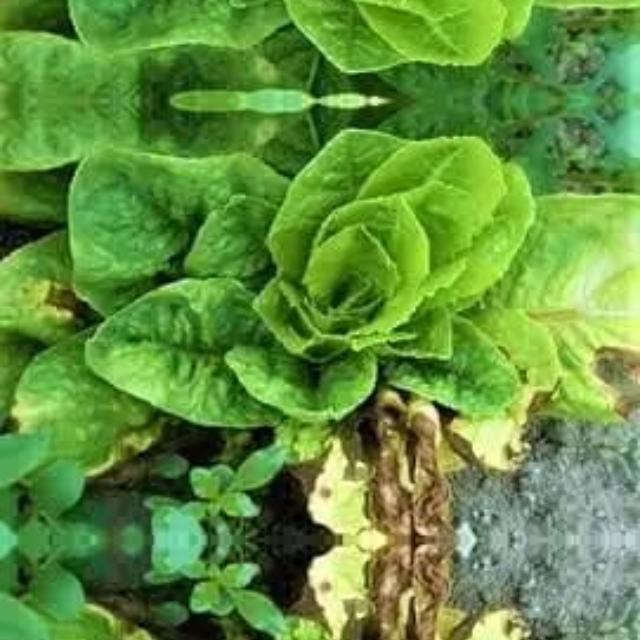lettuce mosaic virus: (30, 128, 628, 454), (30, 0, 627, 72), (30, 624, 627, 640)
